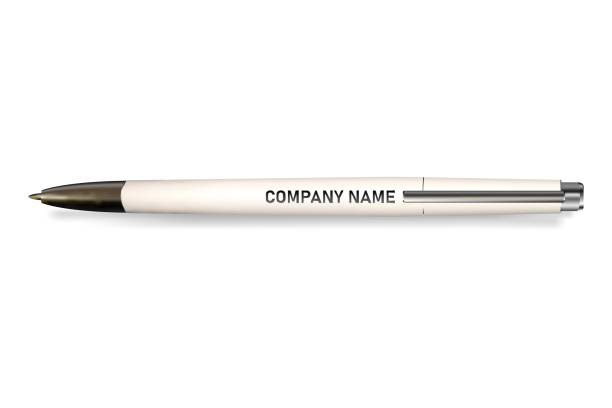pen: (12, 167, 595, 229)
